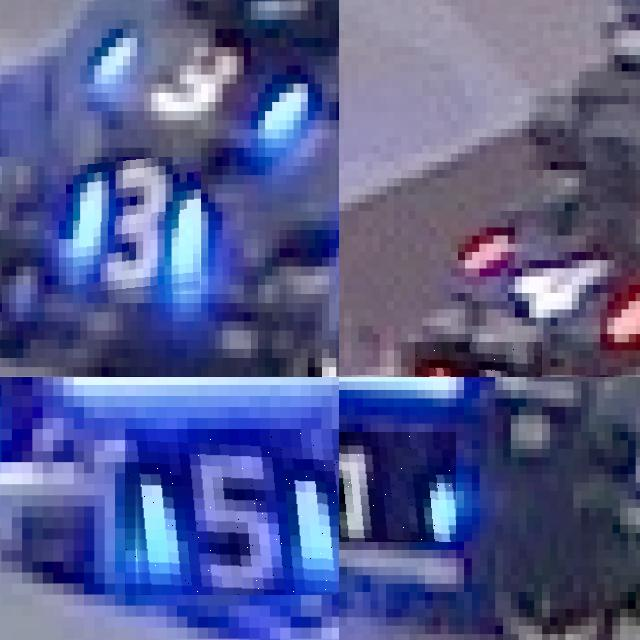B1: (339, 432, 456, 541)
B3: (73, 157, 201, 303)
B5: (125, 429, 339, 594)
R4: (415, 342, 543, 377)
